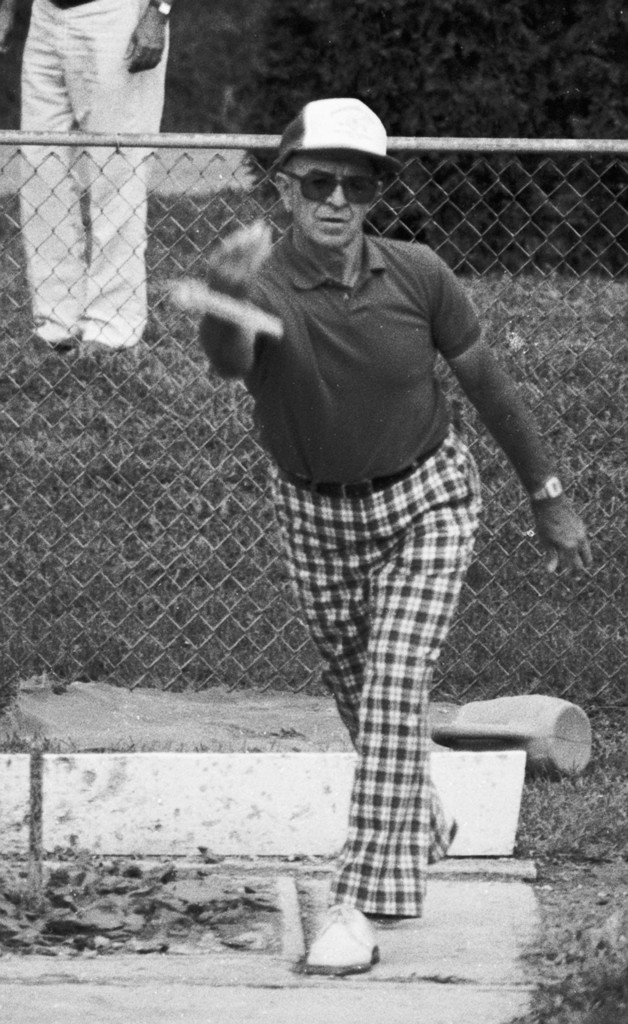Footwear: (288, 900, 378, 984)
